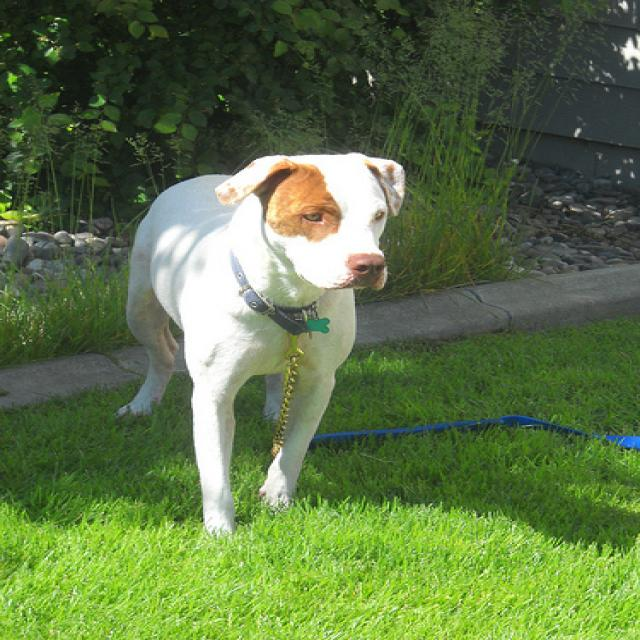dog-american_bulldog: (102, 143, 420, 544)
